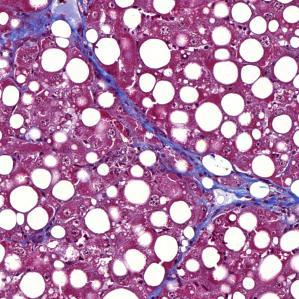fibrosis: (179, 162, 295, 215)
